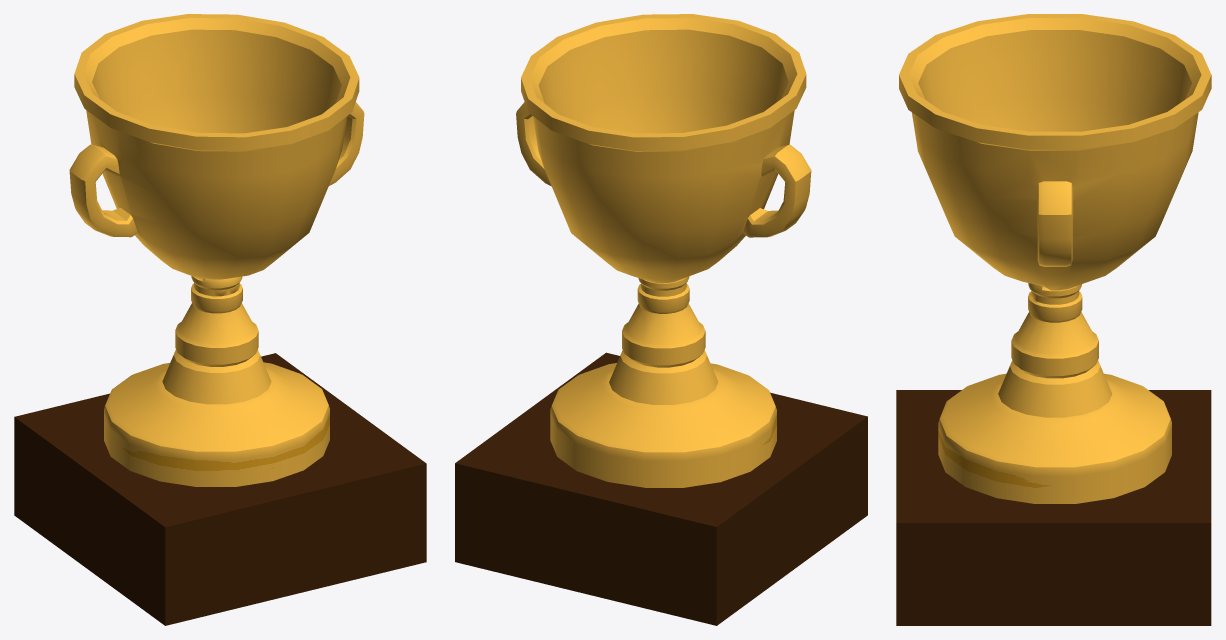
File: B Trophy.fbx
The picture shows the model from 3 angles, left to right: view 1: azimuth 30°, elevation 25°; view 2: azimuth 150°, elevation 25°; view 3: azimuth 270°, elevation 25°; orthographic projection. The views are drawn at different scales.
Parts seen in each view (by area): view 1: Cylinder002, Box002; view 2: Cylinder002, Box002; view 3: Cylinder002, Box002.
Boxes of the visible parts, box(x1,y1,x2,y2) form: Cylinder002: box(69, 14, 364, 486); Box002: box(14, 353, 426, 625); Cylinder002: box(516, 14, 811, 487); Box002: box(455, 352, 867, 625); Cylinder002: box(899, 14, 1211, 503); Box002: box(896, 390, 1211, 625).
Size of the model in its own units: 110 by 172 by 102.
